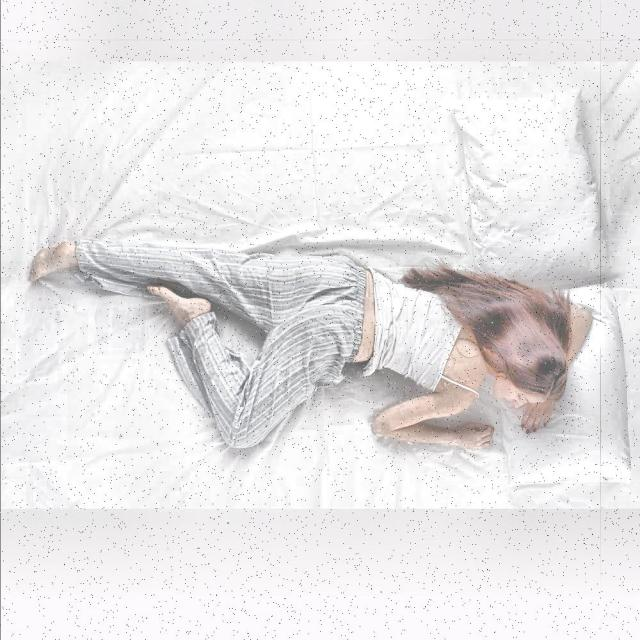Not_Supine: (30, 240, 591, 448)
